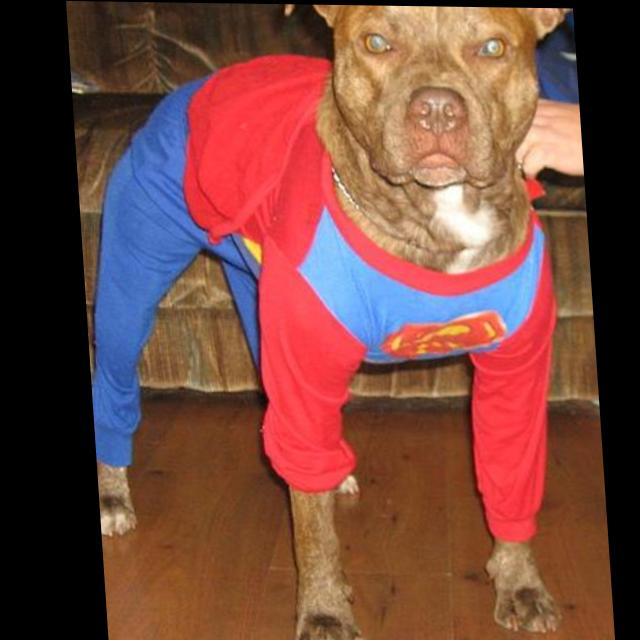amstaff: (68, 2, 608, 640)
